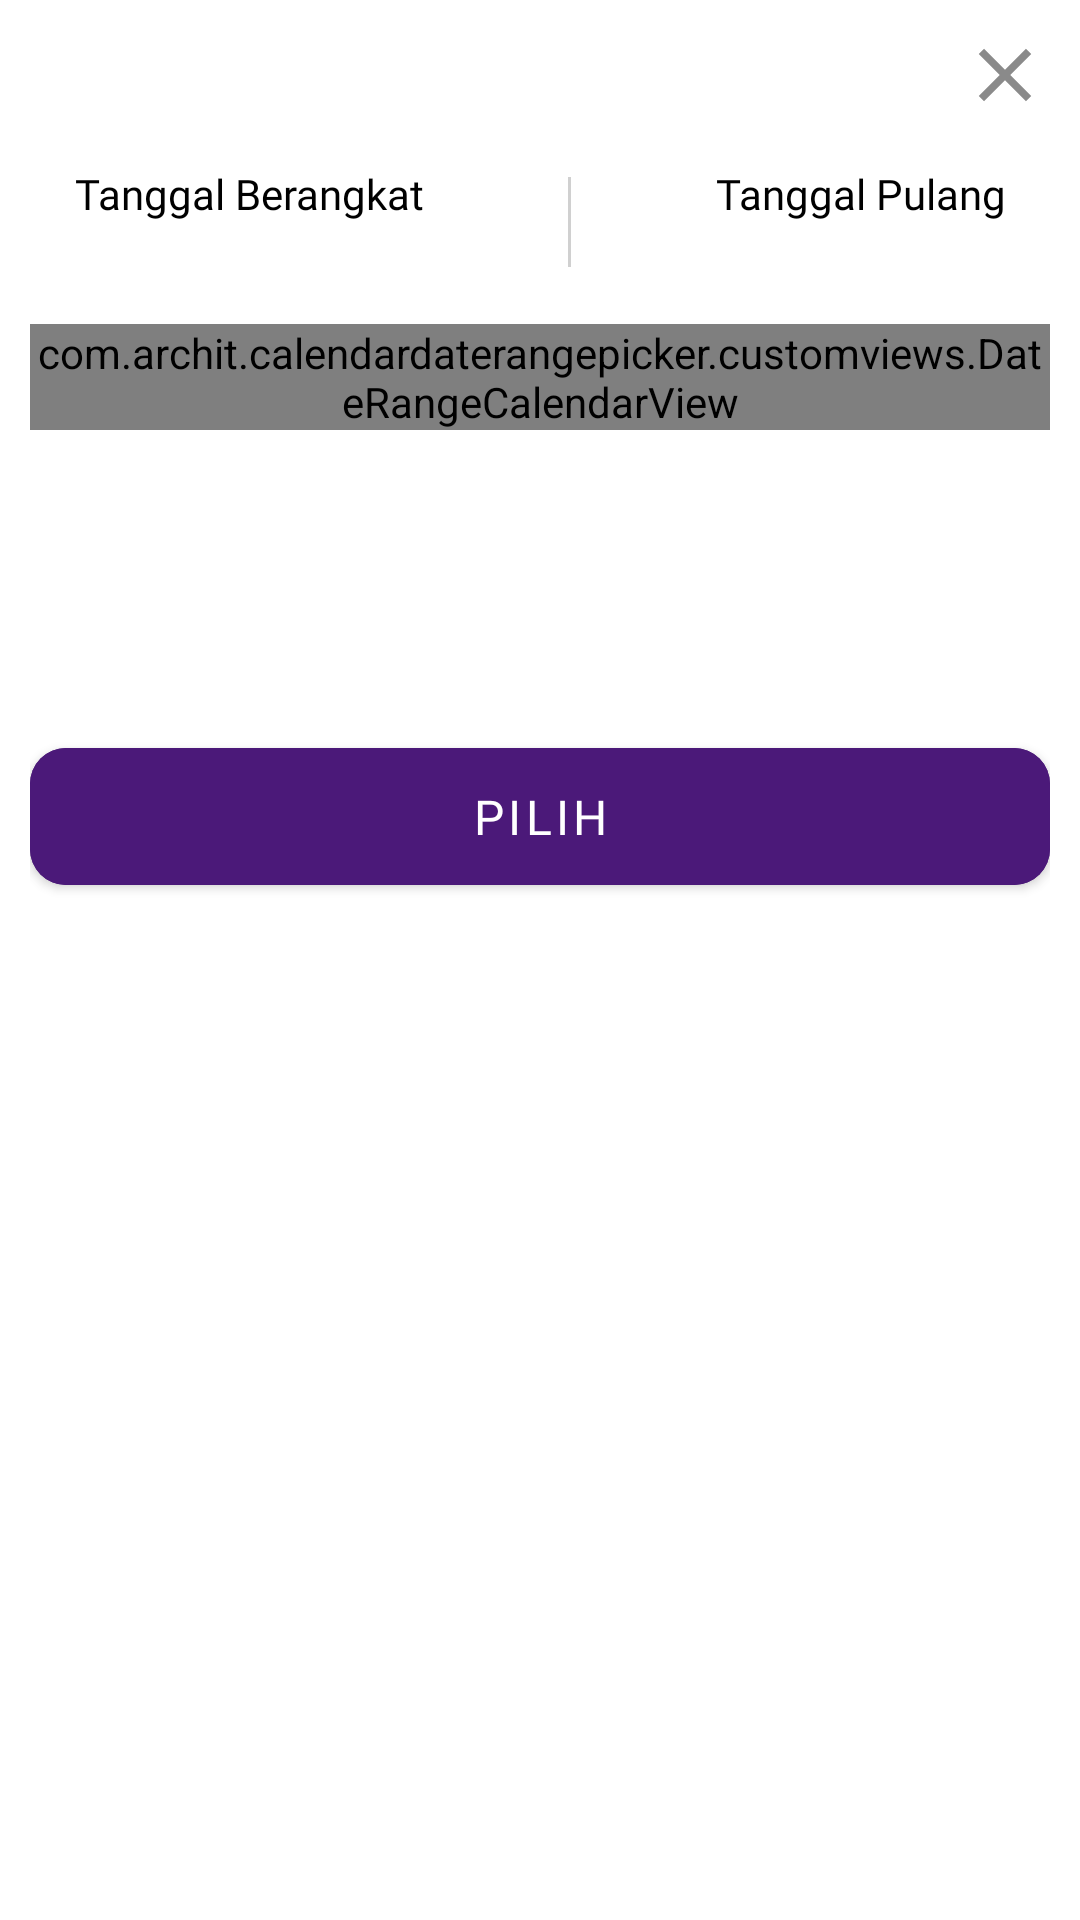

Named icons in this screenshot (1080x1920) and their bounding boxes, bbox(x1, y1, x2, y2):
close: bbox(979, 49, 1031, 101)
